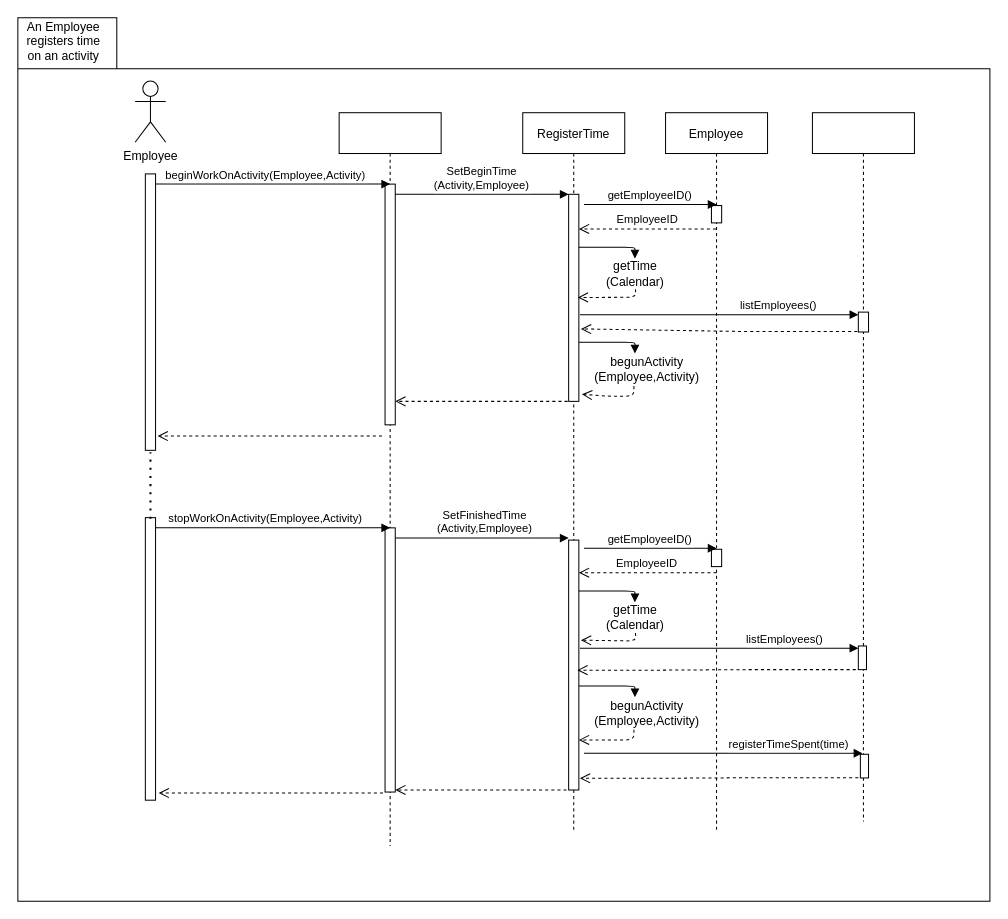
This 1008x919 diagram has some shape labels left out. The box of each missing label's shape, as (x1, y1, x2, y2) in pixels:
Activity: (811, 112, 914, 822)
TimeManagement: (338, 112, 441, 846)
